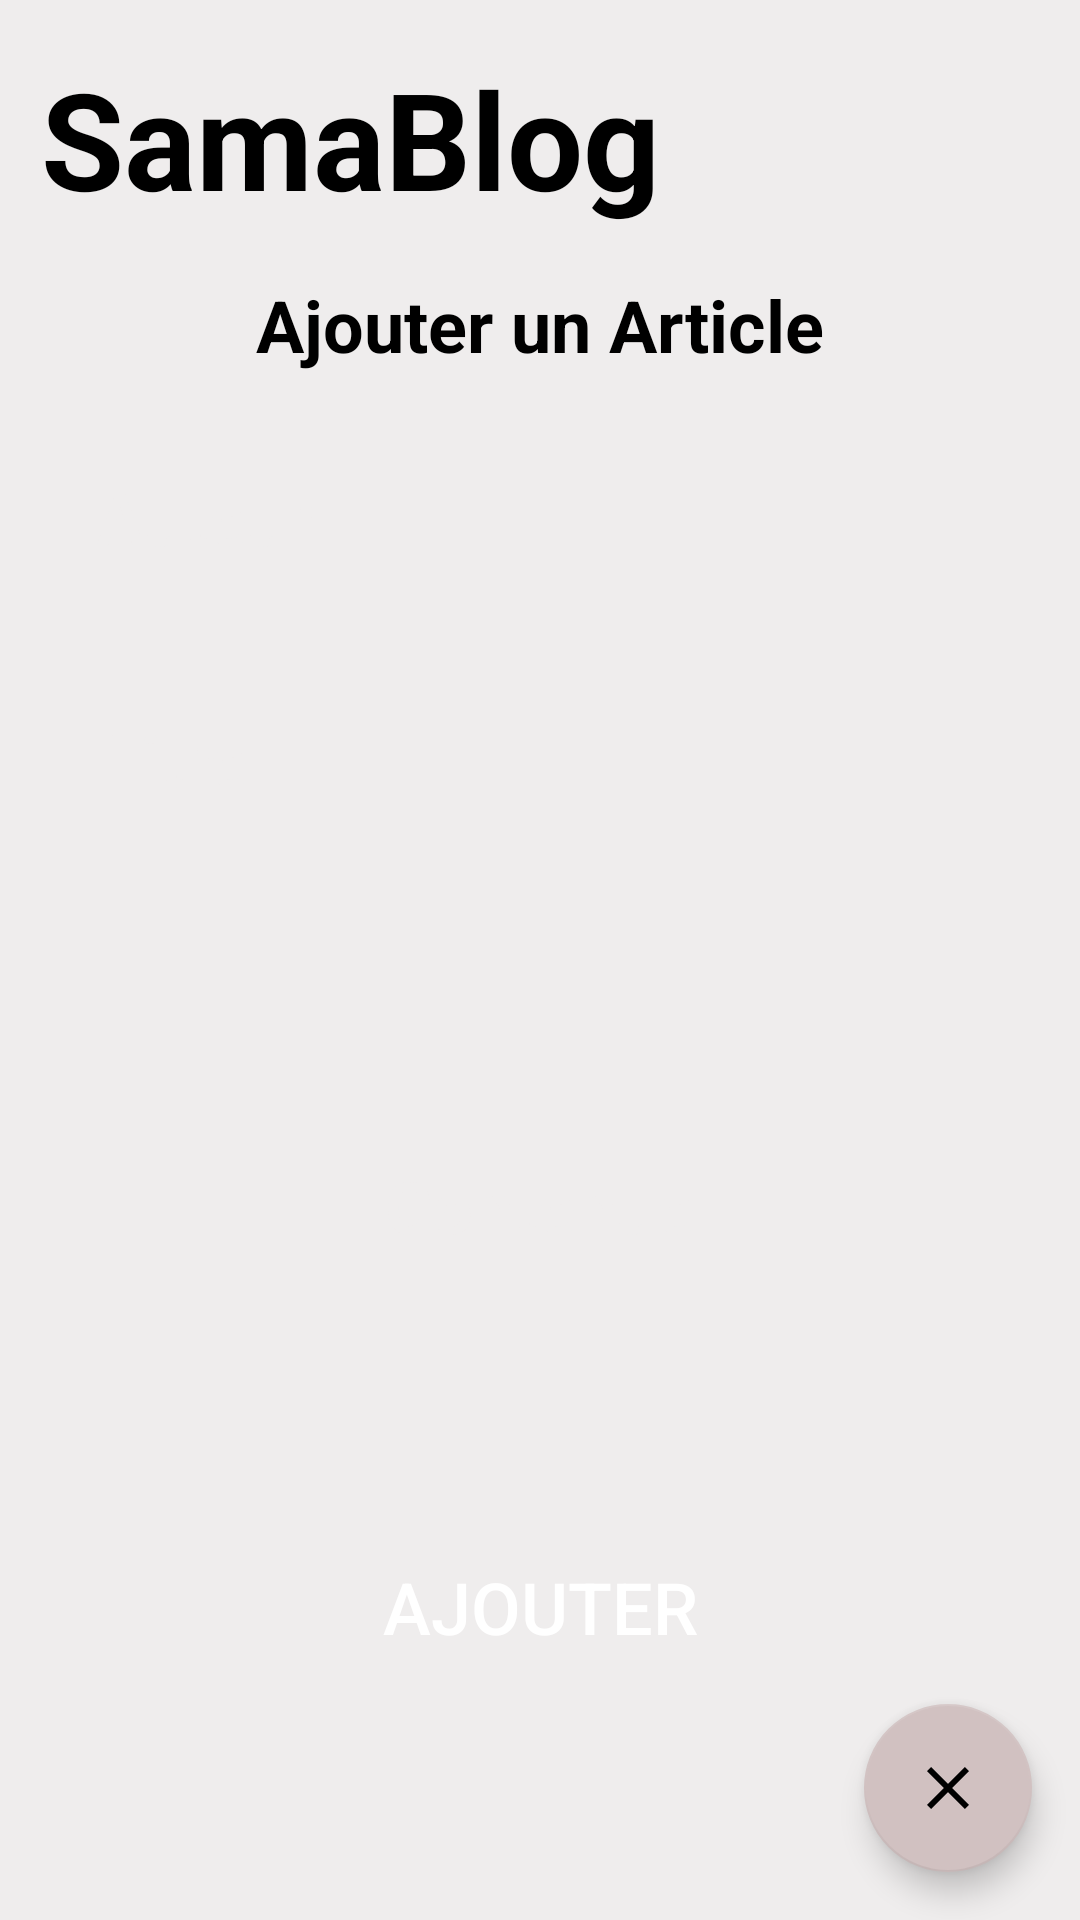

Screen size 1080x1920. Icon name, then its center in pixels as [x,y]:
Close: [948,1788]
